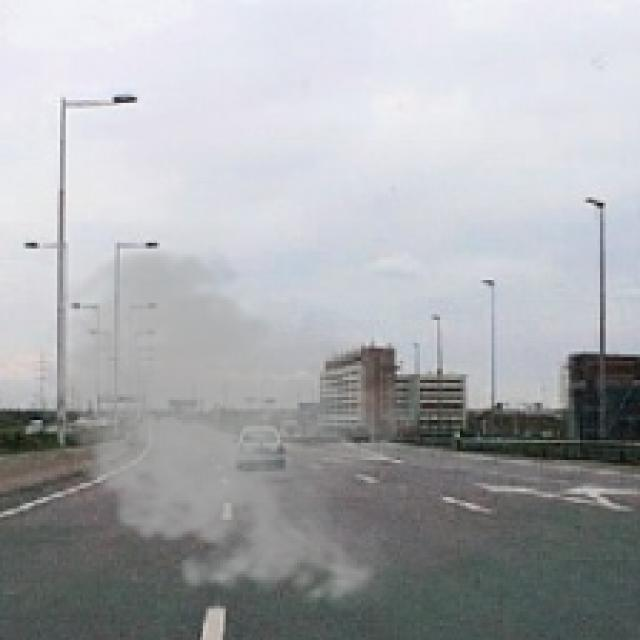smoke: (31, 240, 420, 614)
